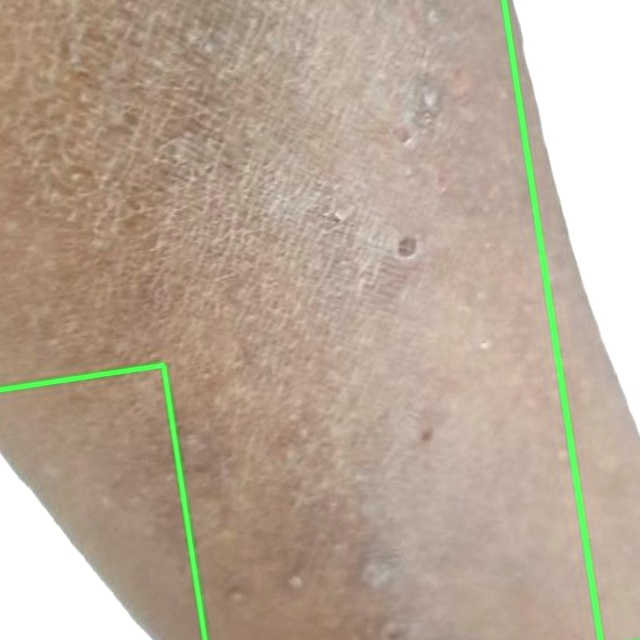Contact Dermatitis: (0, 365, 205, 639)
